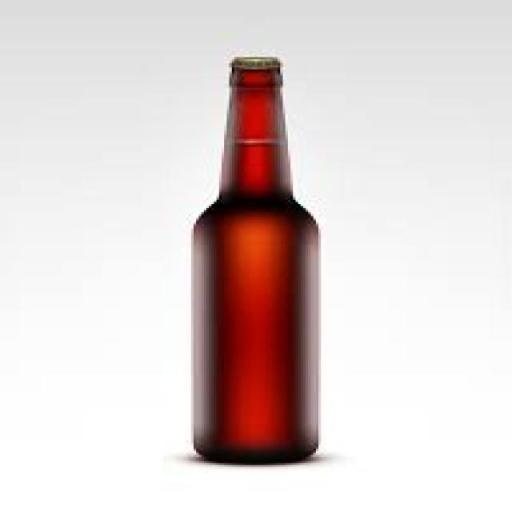glass: (160, 42, 351, 488)
